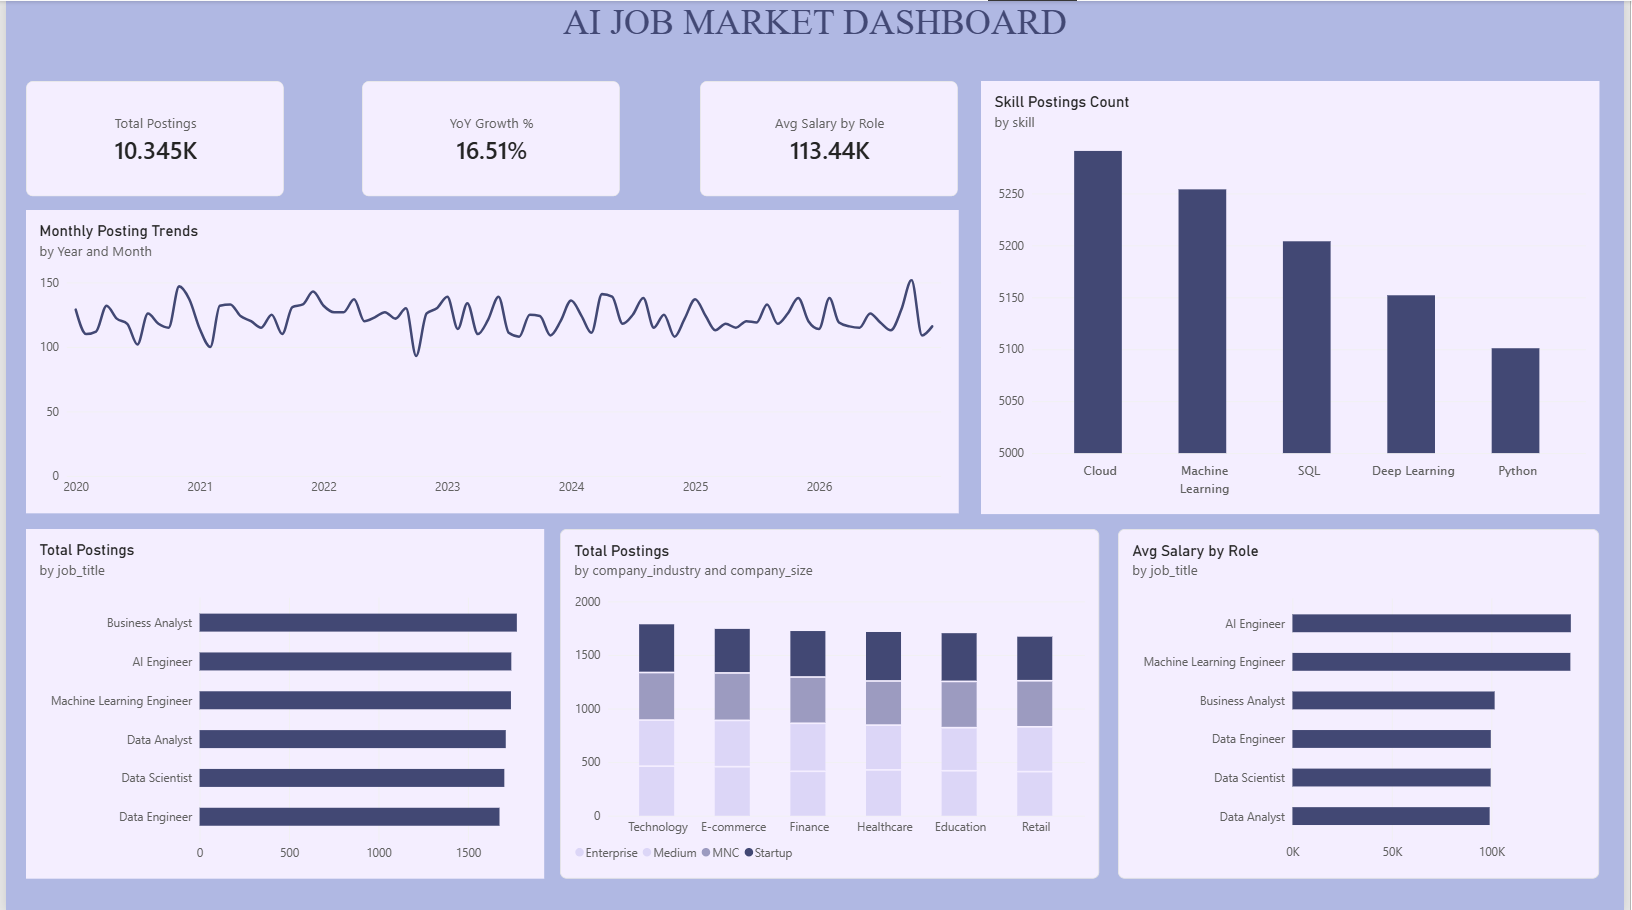

Layout of this report page (visuals, bound fields, positions):
{"tool":"powerbi","page":{"name":"Page 1","canvas":[1920,1080],"ordinal":0},"visuals":[{"type":"cardVisual","fields":{"Data":["_Measure.Total Postings"]},"box":[23.3,94.4,306.6,137.1],"z":0},{"type":"cardVisual","fields":{"Data":["_Measure.YoY Growth %"]},"box":[423.1,94.4,306.6,137.1],"z":1000},{"type":"cardVisual","fields":{"Data":["_Measure.Avg Salary by Role"]},"box":[824.2,94.4,306.6,137.1],"z":2000},{"type":"lineChart","fields":{"Category":["Date.date.Variation.Date Hierarchy.Year","Date.date.Variation.Date Hierarchy.Month"],"Y":["_Measure.Total Postings"]},"box":[23.3,248.4,1107.5,359.7],"z":3000},{"type":"barChart","fields":{"Category":["AI Job Market Dataset.job_title"],"Y":["_Measure.Total Postings"]},"box":[23.3,626.2,614.6,415.3],"z":4000},{"type":"barChart","fields":{"Category":["AI Job Market Dataset.job_title"],"Y":["_Measure.Avg Salary by Role"]},"box":[1319.7,626.2,570.6,415.3],"z":5000},{"type":"columnChart","fields":{"Y":["_Measure.Total Postings"],"Category":["AI Job Market Dataset.company_industry"],"Series":["AI Job Market Dataset.company_size"]},"box":[657.3,626.2,640.4,415.3],"z":6000},{"type":"clusteredColumnChart","fields":{"Category":["Skills.skill"],"Y":["_Measure.Skill Postings Count"]},"box":[1156.7,94.4,733.6,513.6],"z":7000},{"type":"textbox","box":[0,0,1920,76.3],"z":8000}]}

Visuals, with their boxes in screenshot pixels (x1, y1, x2, y2), scaled from the page's 1920x1080 canvas onto the 1632x910 screenshot:
cardVisual - _Measure.Total Postings: bbox=[20, 80, 280, 195]
cardVisual - _Measure.YoY Growth %: bbox=[360, 80, 620, 195]
cardVisual - _Measure.Avg Salary by Role: bbox=[701, 80, 961, 195]
lineChart - Date.date.Variation.Date Hierarchy.Year x Date.date.Variation.Date Hierarchy.Month: bbox=[20, 209, 961, 512]
barChart - AI Job Market Dataset.job_title x _Measure.Total Postings: bbox=[20, 528, 542, 878]
barChart - AI Job Market Dataset.job_title x _Measure.Avg Salary by Role: bbox=[1122, 528, 1607, 878]
columnChart - _Measure.Total Postings x AI Job Market Dataset.company_industry: bbox=[559, 528, 1103, 878]
clusteredColumnChart - Skills.skill x _Measure.Skill Postings Count: bbox=[983, 80, 1607, 512]
textbox: bbox=[0, 0, 1631, 64]
